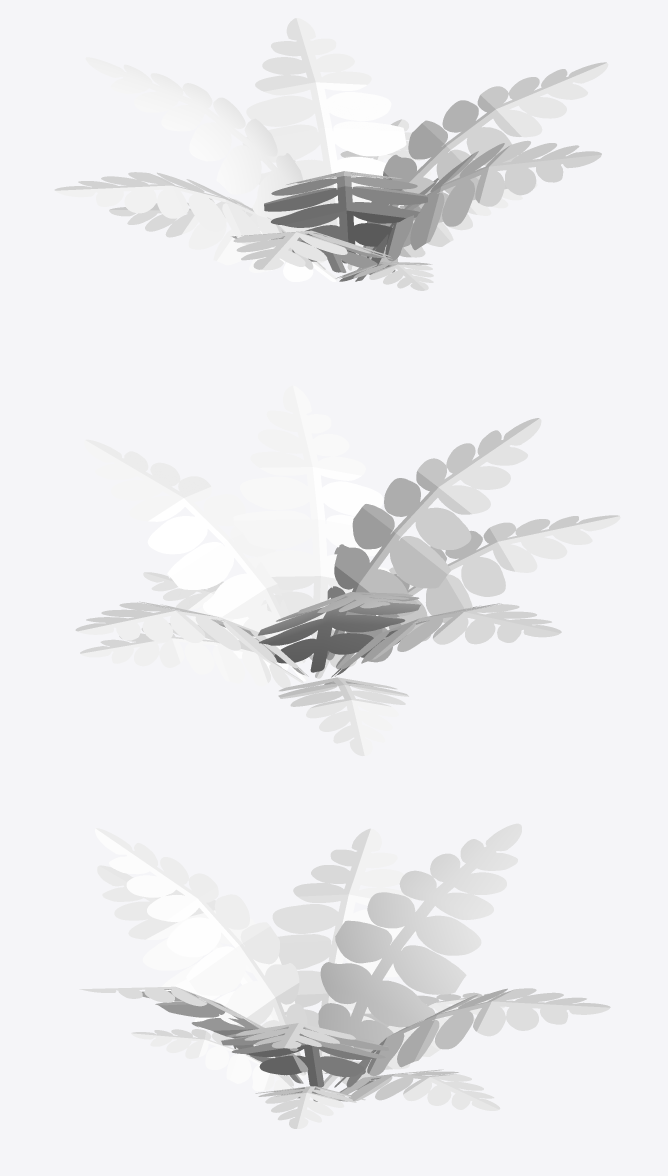
File: Saniainen.fbx
3 views of the same model, one above another, from view 1: azimuth 30°, elevation 25°; view 2: azimuth 150°, elevation 25°; view 3: azimuth 270°, elevation 25° (orthographic). The views are drawn at different scales.
Visible parts, largest first — view 1: Plane.003; view 2: Plane.003; view 3: Plane.003.
Part boxes in pixels (<box>): Plane.003: <box>54,18,608,290</box>; Plane.003: <box>75,385,620,755</box>; Plane.003: <box>80,823,610,1128</box>.
Bounding box in the file's own units: 237 × 104 × 231.
Materials: 1 (1 with a texture image).
